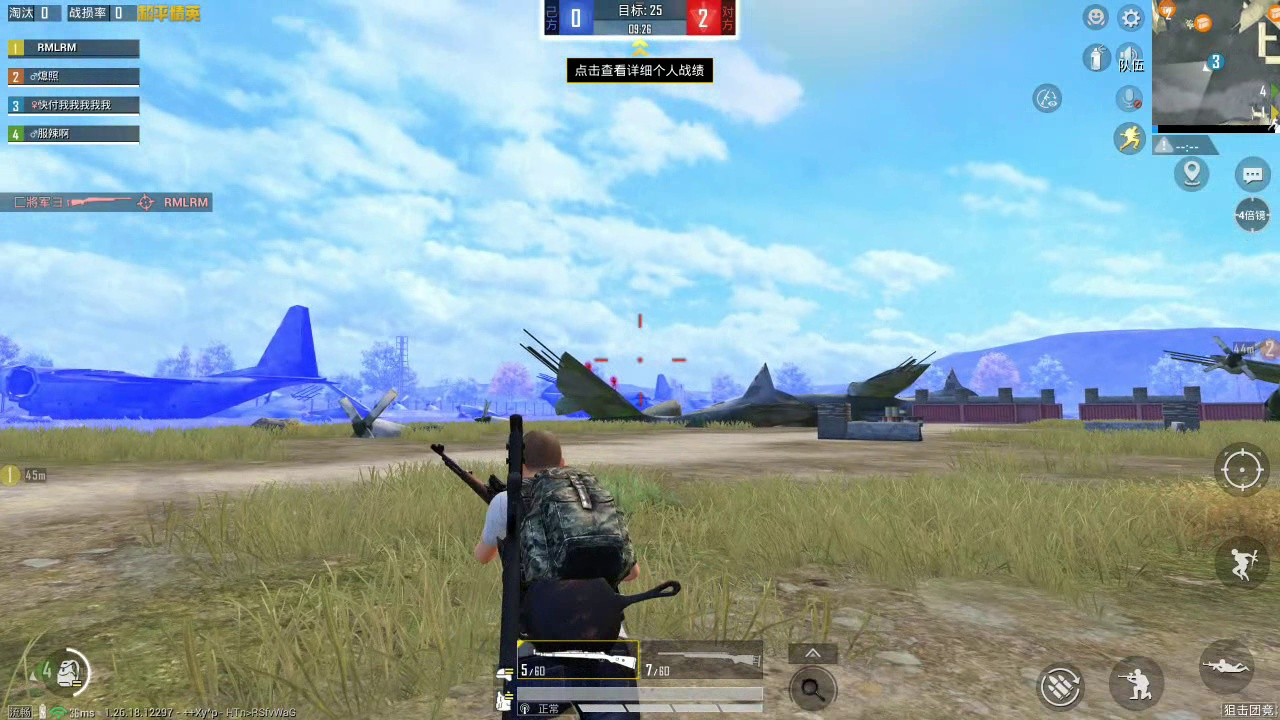enemy: (582, 360, 594, 370), (610, 375, 617, 391)
